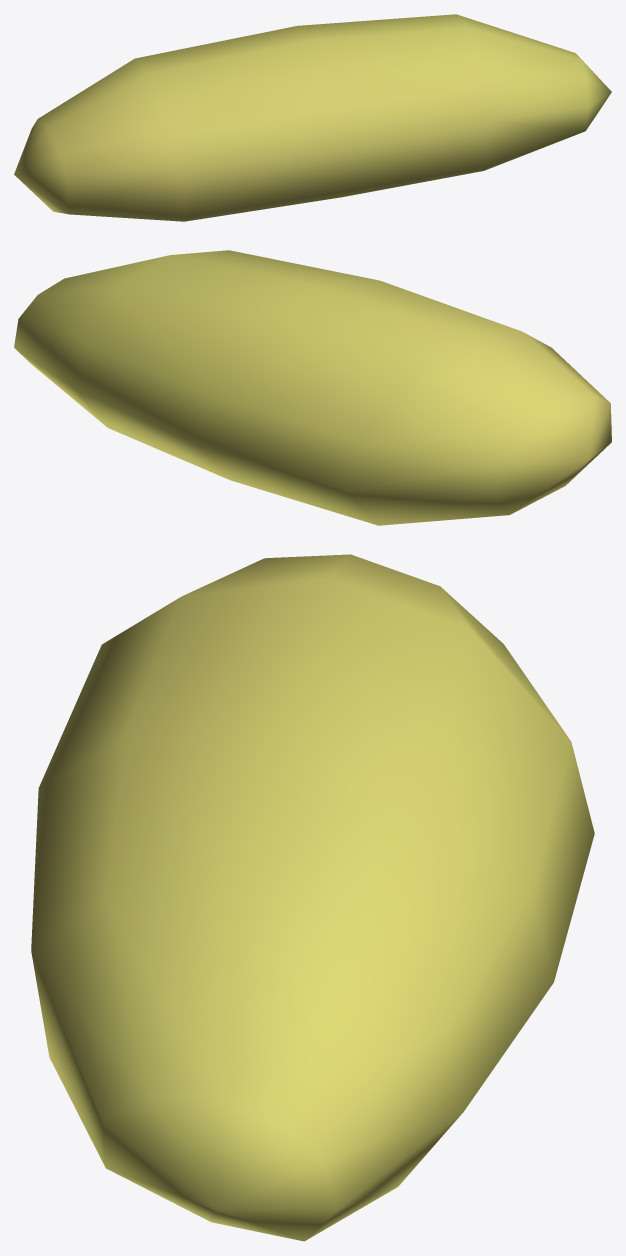
Rendered from PC_Woman_Eyebrow003_L.glb.
3 views of the same model, one above another, from view 1: azimuth 30°, elevation 25°; view 2: azimuth 150°, elevation 25°; view 3: azimuth 270°, elevation 25° (orthographic). The views are drawn at different scales.
Parts seen in each view (by area): view 1: PC_Woman_Eyebrow003_L_mesh; view 2: PC_Woman_Eyebrow003_L_mesh; view 3: PC_Woman_Eyebrow003_L_mesh.
Boxes of the visible parts, x1=… form: PC_Woman_Eyebrow003_L_mesh: x1=14, y1=14, x2=611, y2=221; PC_Woman_Eyebrow003_L_mesh: x1=14, y1=250, x2=611, y2=525; PC_Woman_Eyebrow003_L_mesh: x1=31, y1=554, x2=594, y2=1241.
Bounding box in the file's own units: 0.1487 × 0.0398 × 0.0648.
1 material, 1 textured.
